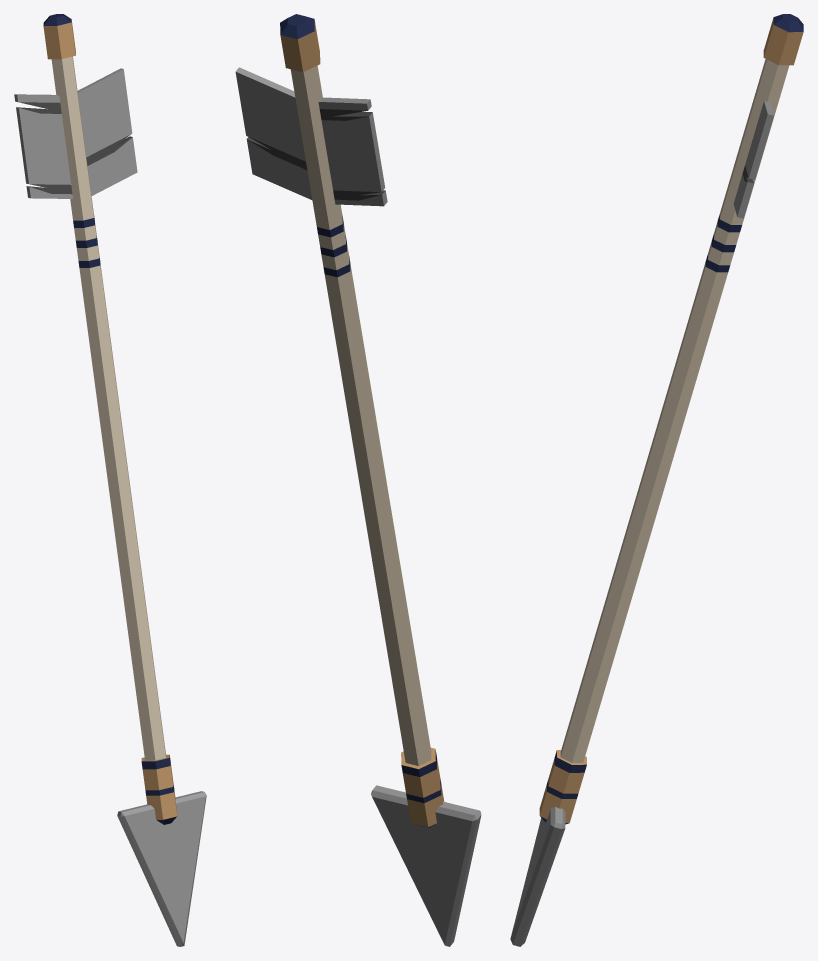
The model's file is Arrow.fbx.
The picture shows the model from 3 angles, left to right: view 1: azimuth 30°, elevation 25°; view 2: azimuth 150°, elevation 25°; view 3: azimuth 270°, elevation 25°; orthographic projection. The views are drawn at different scales.
Visible parts, largest first — view 1: Arrow; view 2: Arrow; view 3: Arrow.
Part boxes in pixels (x1=…): Arrow: x1=14, y1=14, x2=206, y2=946; Arrow: x1=235, y1=14, x2=481, y2=946; Arrow: x1=510, y1=14, x2=803, y2=946.
Size of the model in its own units: 7.89 by 17.02 by 59.55.
